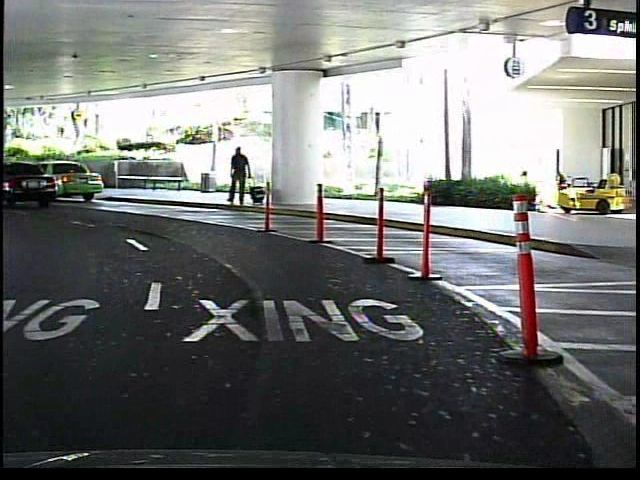person: (224, 144, 253, 212)
